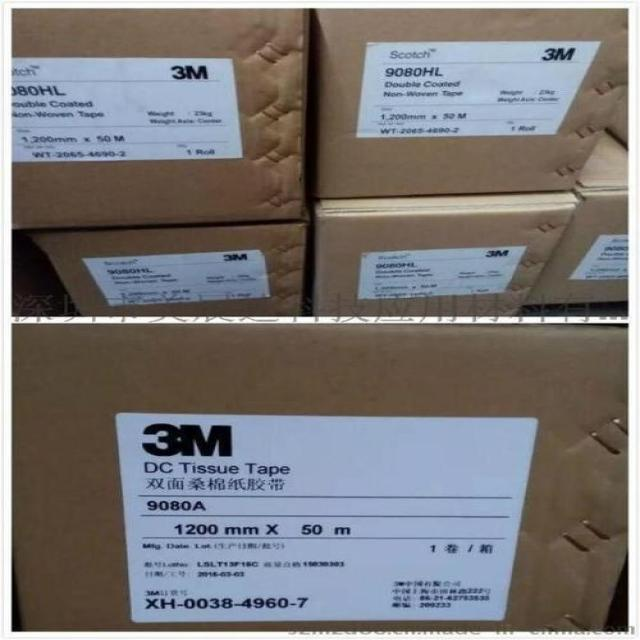box: (12, 324, 630, 632), (10, 8, 311, 231), (311, 8, 630, 200), (315, 193, 580, 316), (35, 223, 305, 314), (520, 131, 630, 306)
